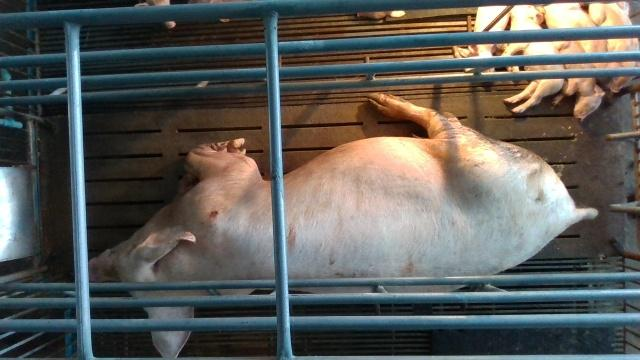piglet: (543, 0, 640, 80), (499, 2, 565, 115), (588, 2, 638, 94), (553, 38, 606, 122), (454, 4, 511, 75)
sow-sleep: (90, 92, 598, 360)
